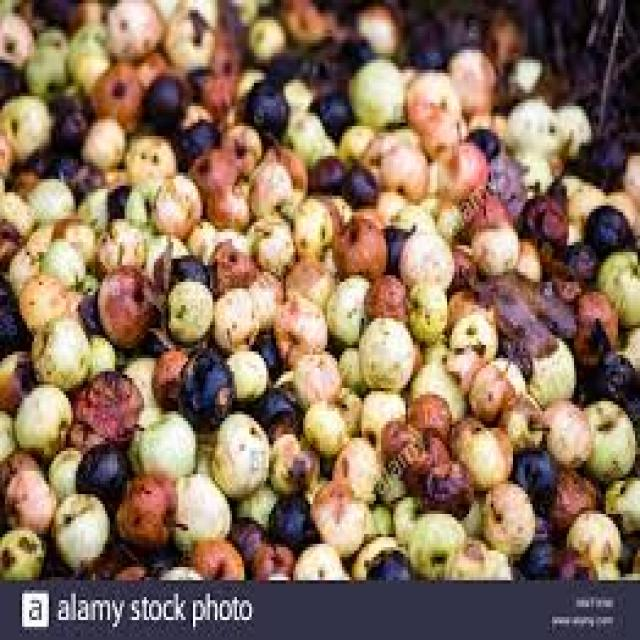organic waste: (0, 0, 638, 577), (476, 272, 574, 355), (208, 405, 266, 494), (112, 467, 178, 544), (71, 371, 142, 441), (95, 262, 154, 345), (171, 468, 232, 547), (354, 312, 413, 391), (579, 398, 633, 481), (178, 345, 230, 431), (308, 477, 366, 554), (51, 488, 105, 570), (342, 53, 405, 123), (132, 404, 198, 468), (520, 322, 572, 401), (266, 421, 322, 494), (73, 438, 132, 507), (159, 0, 217, 70), (27, 315, 88, 381), (481, 477, 533, 554), (376, 119, 428, 196), (454, 421, 513, 488), (15, 378, 70, 448), (269, 289, 322, 358), (572, 282, 616, 365), (330, 206, 388, 268), (442, 40, 494, 109), (102, 0, 166, 56), (406, 355, 466, 414), (406, 511, 462, 574), (17, 269, 78, 325), (545, 464, 598, 528), (0, 90, 49, 159), (596, 245, 638, 325), (144, 173, 200, 232), (428, 139, 483, 199), (90, 59, 142, 122), (2, 468, 54, 530), (403, 70, 457, 129), (396, 222, 449, 282), (322, 272, 369, 338), (510, 438, 562, 497), (120, 355, 164, 424), (464, 219, 518, 275), (506, 90, 554, 152), (464, 358, 511, 421), (540, 398, 589, 458), (586, 345, 638, 401), (420, 458, 472, 514), (22, 172, 73, 229), (264, 491, 315, 547), (520, 182, 567, 242), (178, 530, 242, 574), (400, 6, 444, 70), (354, 384, 406, 438), (440, 537, 510, 577), (278, 255, 334, 305), (139, 70, 186, 129), (166, 275, 210, 338), (298, 398, 347, 454), (496, 388, 547, 441), (51, 83, 93, 146), (445, 298, 491, 355), (427, 461, 479, 511), (457, 186, 510, 235), (142, 229, 188, 285), (483, 3, 528, 60), (288, 189, 328, 252), (98, 212, 142, 269), (49, 212, 95, 266), (244, 156, 288, 212), (244, 216, 291, 268), (66, 17, 107, 76), (332, 435, 381, 484), (210, 285, 252, 342), (222, 338, 266, 392), (222, 514, 264, 570), (244, 73, 286, 129), (188, 146, 235, 196), (0, 524, 44, 577), (290, 348, 334, 401), (208, 232, 252, 285), (149, 345, 186, 408), (406, 278, 442, 342), (566, 511, 616, 557), (572, 129, 618, 179), (230, 478, 274, 530), (598, 471, 638, 527), (291, 537, 347, 577), (276, 0, 332, 40), (41, 232, 80, 289), (0, 278, 29, 354), (244, 538, 296, 580), (0, 7, 37, 66), (125, 129, 171, 176), (361, 272, 408, 318), (489, 149, 525, 209), (76, 110, 120, 159), (222, 116, 262, 169), (250, 266, 284, 328), (22, 40, 61, 93), (557, 96, 591, 156), (579, 199, 623, 245), (420, 106, 462, 153), (347, 531, 400, 567), (49, 153, 102, 189), (357, 0, 393, 53), (554, 172, 598, 215), (81, 537, 132, 574), (264, 136, 305, 182), (325, 382, 361, 434), (176, 120, 220, 162), (205, 179, 244, 226), (0, 345, 29, 408), (601, 189, 637, 239), (247, 266, 281, 318), (379, 418, 420, 461), (68, 179, 105, 226), (46, 441, 78, 494), (515, 534, 562, 570), (366, 179, 408, 219), (335, 345, 369, 394), (388, 484, 421, 534), (406, 391, 450, 428), (76, 265, 100, 332), (0, 448, 34, 494), (547, 256, 584, 298), (513, 142, 550, 182), (244, 13, 281, 53), (337, 159, 374, 199), (310, 86, 347, 126), (467, 103, 508, 139), (0, 189, 32, 235), (356, 130, 391, 172), (105, 182, 144, 219), (196, 76, 234, 113), (5, 239, 37, 282), (127, 46, 164, 83), (381, 222, 410, 269), (259, 385, 296, 421), (442, 282, 472, 325), (391, 192, 430, 225), (24, 216, 54, 258), (139, 540, 176, 574), (364, 547, 410, 574), (164, 248, 205, 278), (464, 126, 498, 162), (283, 106, 320, 139), (562, 232, 594, 269), (305, 150, 342, 182), (254, 328, 279, 375), (186, 219, 215, 259), (0, 216, 22, 268), (552, 547, 594, 574), (293, 129, 330, 159), (542, 142, 569, 182), (462, 491, 484, 540), (337, 123, 369, 156), (403, 458, 428, 500), (445, 411, 469, 454), (423, 428, 447, 471), (278, 70, 310, 102), (613, 146, 638, 186), (508, 235, 535, 272), (339, 33, 369, 66), (268, 46, 296, 80), (538, 229, 560, 272), (435, 192, 457, 235), (315, 36, 340, 73), (618, 322, 638, 368), (317, 192, 347, 222), (444, 10, 478, 36), (610, 391, 638, 421), (86, 332, 112, 364), (176, 96, 210, 120), (364, 498, 391, 528), (232, 60, 254, 96), (37, 547, 66, 574), (34, 0, 71, 20), (0, 408, 15, 457), (193, 431, 210, 474), (620, 534, 638, 574), (159, 560, 200, 577), (37, 20, 66, 43), (0, 132, 15, 176), (293, 43, 315, 73), (112, 557, 144, 577), (70, 0, 102, 17), (532, 501, 550, 527), (9, 166, 36, 182), (222, 0, 254, 13), (27, 152, 51, 166), (0, 0, 27, 10), (261, 567, 286, 577), (610, 570, 616, 574)
